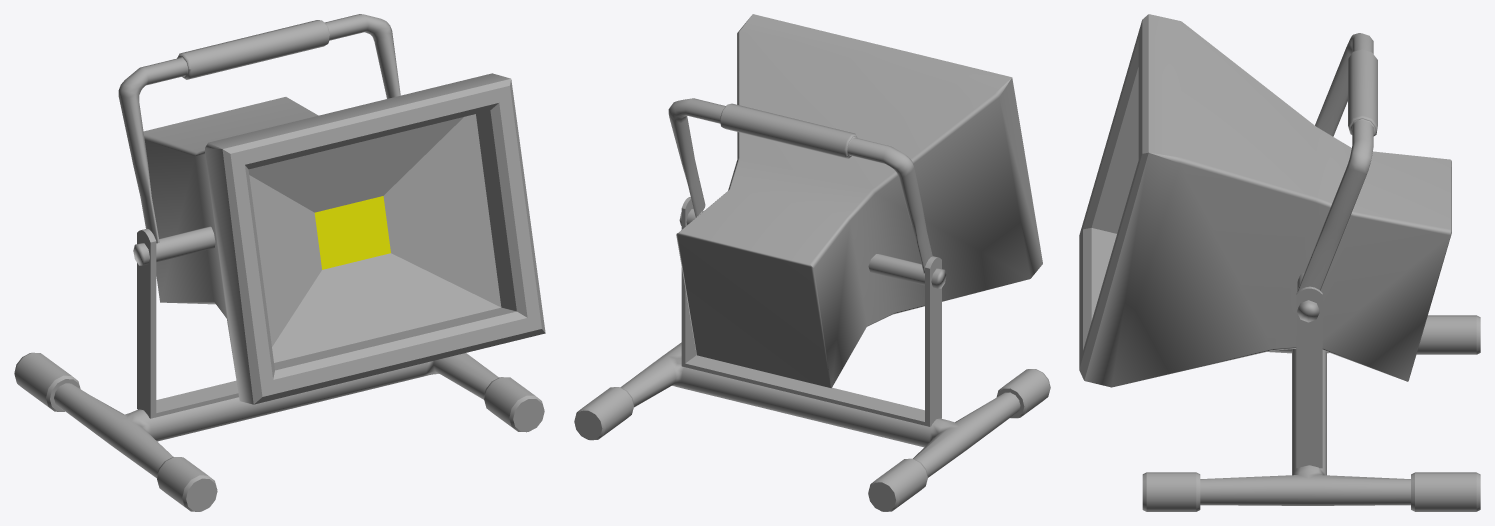
File: En_P_HeadLamp.fbx
The picture shows the model from 3 angles, left to right: view 1: azimuth 30°, elevation 25°; view 2: azimuth 150°, elevation 25°; view 3: azimuth 270°, elevation 25°; orthographic projection. The views are drawn at different scales.
Visible parts, largest first — view 1: En_P_HeadLamp; view 2: En_P_HeadLamp; view 3: En_P_HeadLamp.
Boxes of the visible parts, x1,y1,x2,y2 form: En_P_HeadLamp: (14,14,545,511); En_P_HeadLamp: (574,14,1050,511); En_P_HeadLamp: (1079,14,1480,511).
Size of the model in its own units: 33.93 by 31.9 by 33.12.
